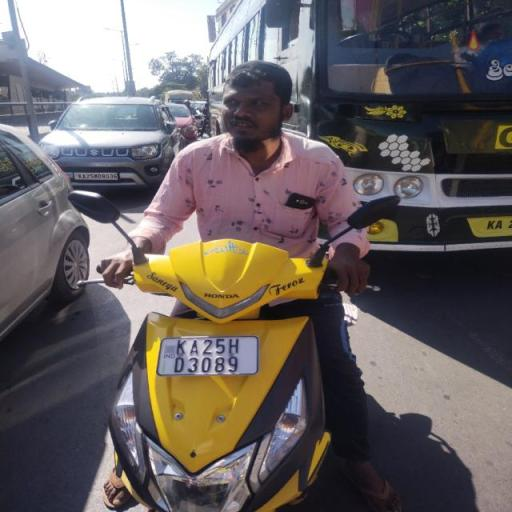bike: (66, 59, 410, 509)
numberplate: (158, 335, 260, 375)
withouthelmet: (224, 64, 290, 138)
